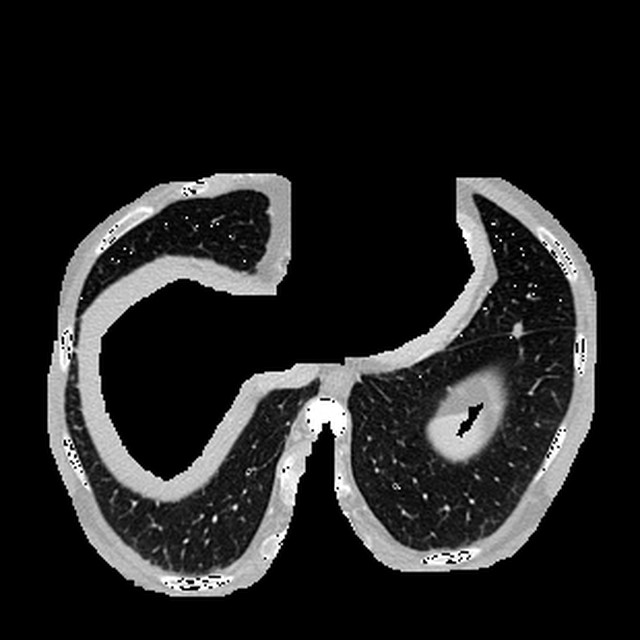PN: (512, 324, 524, 337)
